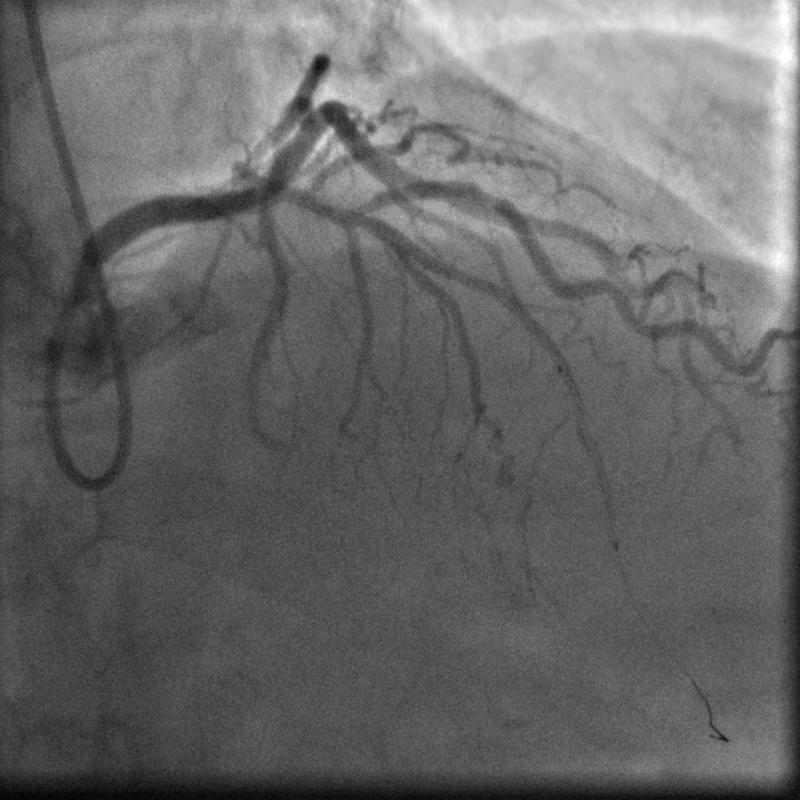Stenosis: (465, 178, 513, 224)
